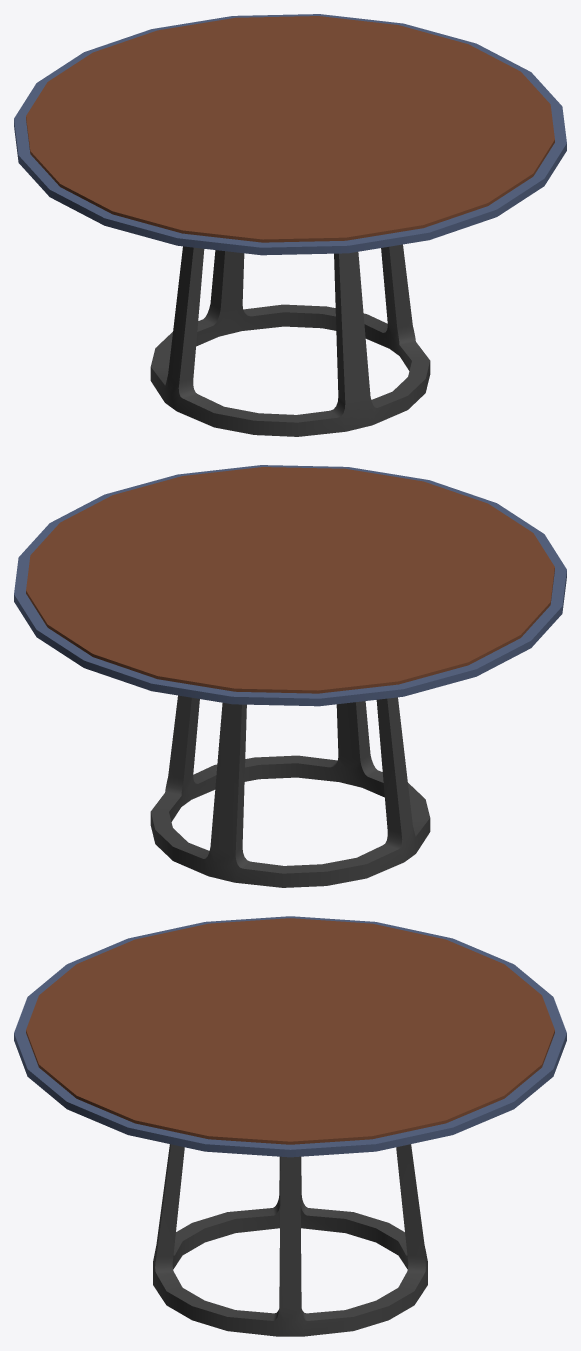
The model's file is table2.fbx.
The picture shows the model from 3 angles, top to bottom: view 1: azimuth 30°, elevation 25°; view 2: azimuth 150°, elevation 25°; view 3: azimuth 270°, elevation 25°; orthographic projection.
Parts seen in each view (by area): view 1: Cylinder.005; view 2: Cylinder.005; view 3: Cylinder.005.
Part boxes in pixels (x1=…): Cylinder.005: x1=14, y1=14, x2=566, y2=436; Cylinder.005: x1=14, y1=465, x2=566, y2=887; Cylinder.005: x1=14, y1=916, x2=566, y2=1336.
Size of the model in its own units: 2.63 by 1.31 by 2.63.
